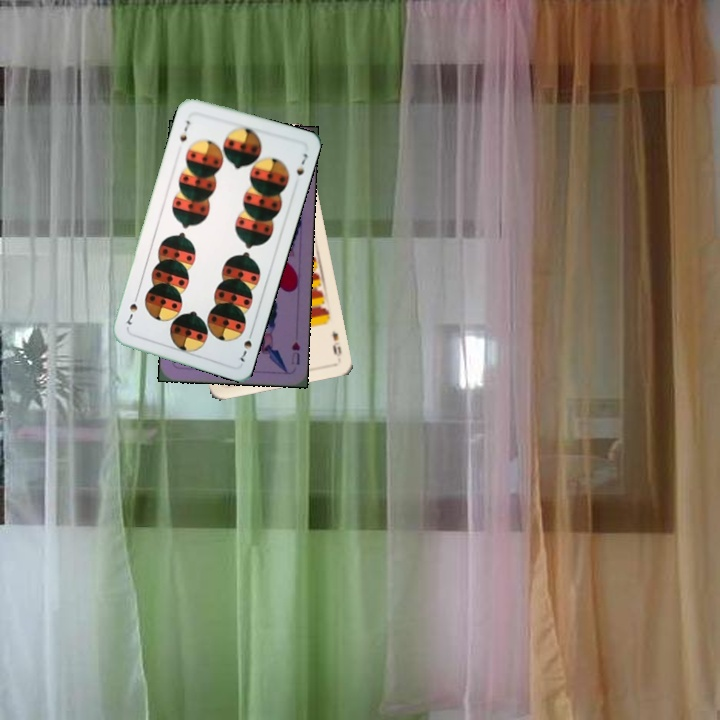E9: (328, 327, 344, 359)
HU: (287, 338, 303, 367)
S7: (234, 326, 256, 364), (175, 116, 193, 147)
